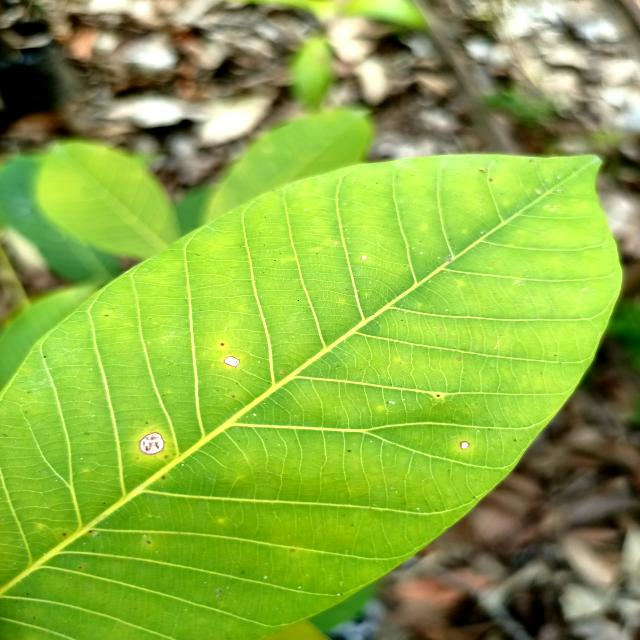Colletotrichum: (139, 432, 165, 455), (223, 356, 240, 367), (460, 441, 468, 449), (361, 256, 367, 260), (221, 343, 224, 346)
